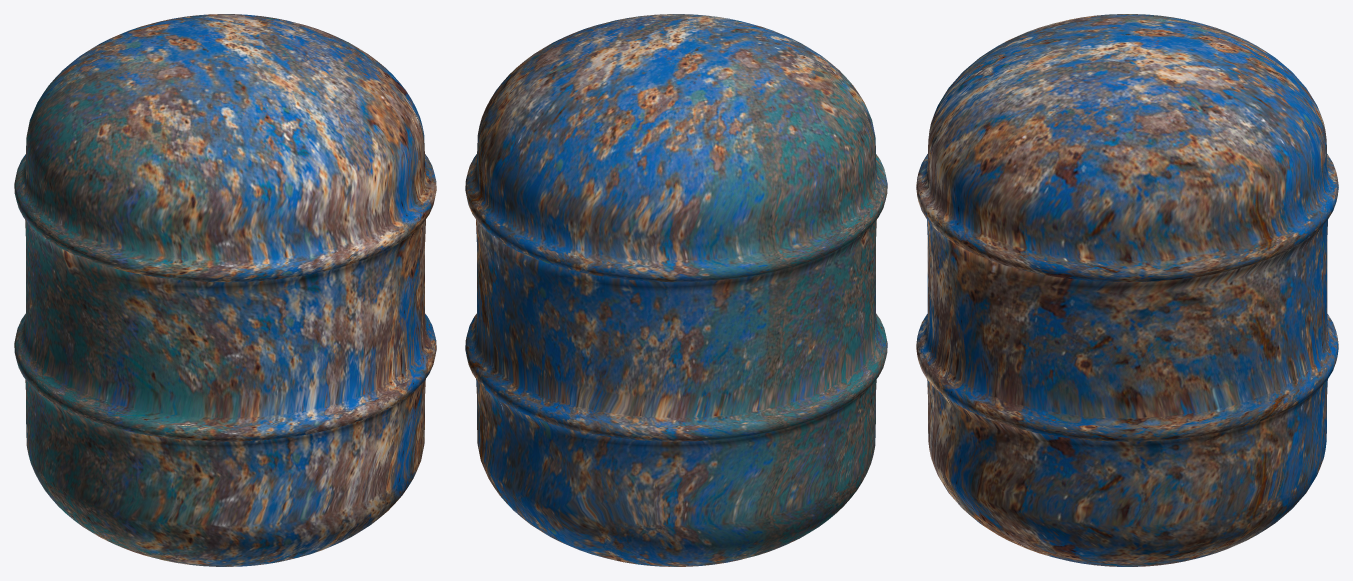
Rendered from ind_tank.FBX.
3 views of the same model, side by side, from view 1: azimuth 30°, elevation 25°; view 2: azimuth 150°, elevation 25°; view 3: azimuth 270°, elevation 25° (orthographic).
Visible parts, largest first — view 1: ind_tank001; view 2: ind_tank001; view 3: ind_tank001.
Part boxes in pixels (x1,y1,x2,y2): ind_tank001: (14, 14, 436, 566); ind_tank001: (465, 14, 887, 566); ind_tank001: (916, 14, 1338, 566).
Bounding box in the file's own units: 278 × 359 × 278.
1 material, 1 textured.
